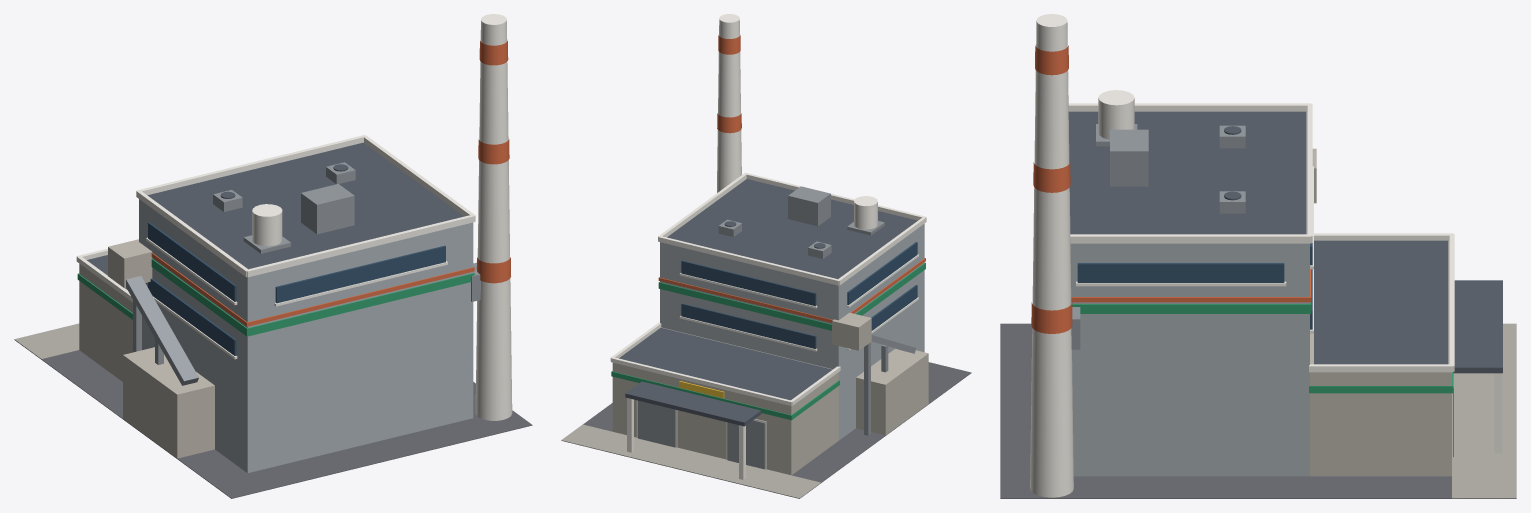
File: incinerator.glb
The picture shows the model from 3 angles, left to right: view 1: azimuth 30°, elevation 25°; view 2: azimuth 150°, elevation 25°; view 3: azimuth 270°, elevation 25°; orthographic projection. The views are drawn at different scales.
Visible parts, largest first — view 1: plant, roof, smoke_stack, yard, bunker, window_band (×3), parapet (×4), accent_stripe (×2), tipping_hall, conveyor, roof_vent, stack_band (×3) (+4 smaller); view 2: roof (×2), plant, tipping_hall, window_band (×4), apron, parapet (×5), bunker, accent_stripe (×3), yard, smoke_stack, garage_door (×2), canopy (+4 smaller); view 3: plant, roof (×2), smoke_stack, yard, tipping_hall, parapet (×6), apron, accent_stripe (×3), canopy, window_band, stack_band (×3), roof_vent (+3 smaller).
Part boxes in pixels (<box>): plant: <box>139,199,473,473</box>; roof: <box>147,142,463,269</box>; smoke_stack: <box>475,14,512,420</box>; yard: <box>15,340,532,498</box>; bunker: <box>123,347,214,458</box>; window_band (×3): <box>148,222,445,355</box>; parapet (×4): <box>136,135,475,277</box>; accent_stripe (×2): <box>151,253,474,336</box>; tipping_hall: <box>79,263,132,381</box>; conveyor: <box>126,276,198,385</box>; roof_vent: <box>301,184,354,234</box>; stack_band (×3): <box>476,41,510,283</box>; roof (×2): <box>619,179,917,400</box>; plant: <box>660,223,924,440</box>; tipping_hall: <box>612,327,838,475</box>; window_band (×4): <box>681,242,917,348</box>; apron: <box>561,424,820,498</box>; parapet (×5): <box>611,173,926,405</box>; bunker: <box>856,349,928,435</box>; accent_stripe (×3): <box>611,258,925,420</box>; yard: <box>569,362,971,498</box>; smoke_stack: <box>717,14,741,192</box>; garage_door (×2): <box>638,400,764,469</box>; canopy: <box>625,381,761,426</box>; plant: <box>1070,112,1309,476</box>; roof (×2): <box>1068,111,1448,364</box>; smoke_stack: <box>1030,14,1073,497</box>; yard: <box>1000,323,1516,498</box>; tipping_hall: <box>1310,241,1451,476</box>; parapet (×6): <box>1068,103,1454,372</box>; apron: <box>1452,323,1516,498</box>; accent_stripe (×3): <box>1071,269,1453,393</box>; canopy: <box>1453,280,1502,373</box>; window_band: <box>1077,263,1284,282</box>; stack_band (×3): <box>1031,45,1072,333</box>; roof_vent: <box>1110,129,1148,186</box>.
Size of the model in its own units: 32 by 40.06 by 40.
